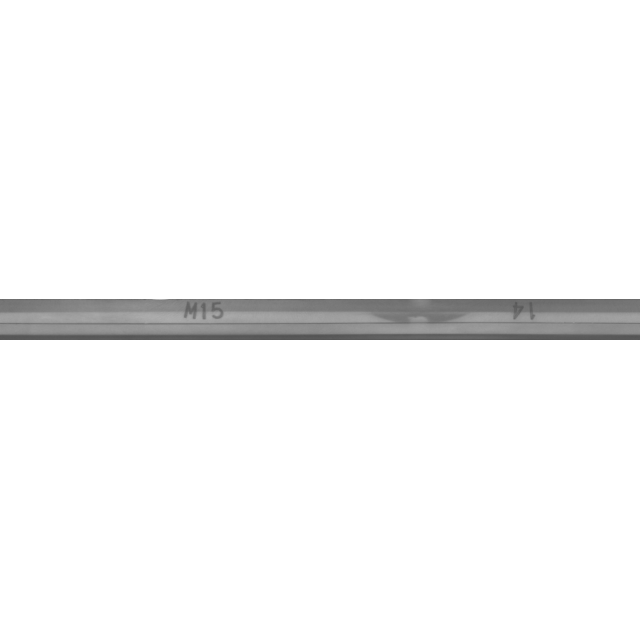mohao: (106, 270, 306, 370)
xuehao: (424, 270, 624, 370)
